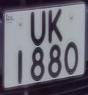0: (63, 39, 80, 79)
1: (13, 47, 28, 87)
8: (27, 46, 48, 84), (45, 42, 64, 81)
K: (46, 6, 65, 46)
U: (28, 7, 49, 49)
